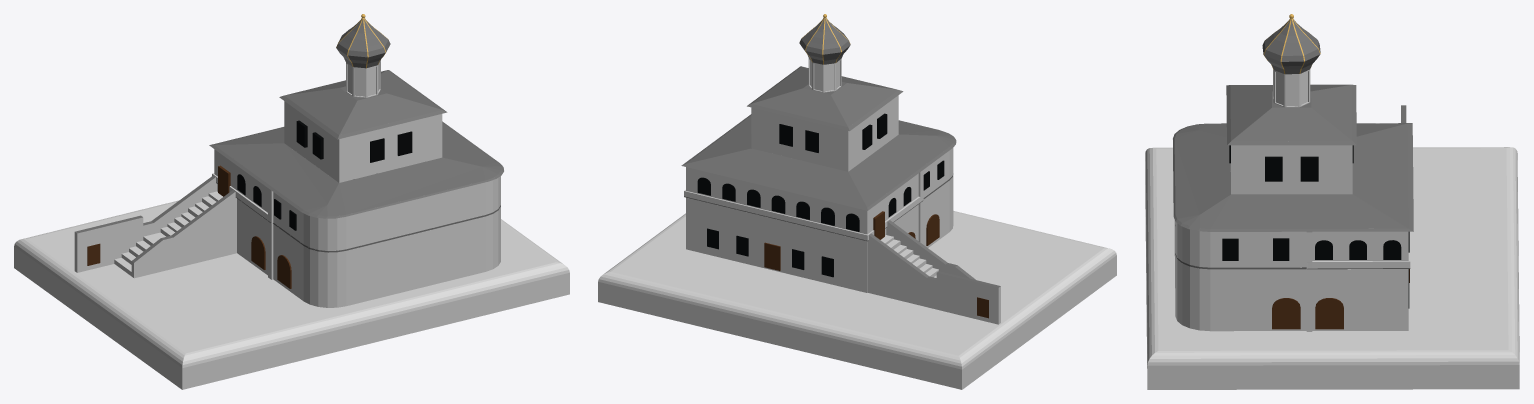
File: palacechurch.gltf
3 renders of one model, left to right at view 1: azimuth 30°, elevation 25°; view 2: azimuth 150°, elevation 25°; view 3: azimuth 270°, elevation 25°, orthographic. The views are drawn at different scales.
Parts seen in each view (by area): view 1: Base, Cube.009, Top, Cube.010, Cube.023, Cube.022; view 2: Base, Cube.009, Top, Cube.018, Cube.023, Cube.015, Cube.022, Cube.014; view 3: Base, Top, Cube.012, Cube.020, Cube.022, Cube.021.
Boxes of the visible parts, x1,y1,x2,y2 form: Base: [14, 70, 569, 389]; Cube.009: [74, 175, 236, 278]; Top: [336, 14, 390, 97]; Cube.010: [251, 236, 291, 288]; Cube.023: [370, 131, 412, 162]; Cube.022: [296, 120, 323, 159]; Base: [598, 66, 1116, 389]; Cube.009: [867, 220, 1000, 324]; Top: [799, 14, 850, 92]; Cube.018: [697, 177, 859, 231]; Cube.023: [779, 124, 818, 152]; Cube.015: [792, 249, 833, 277]; Cube.022: [862, 113, 887, 149]; Cube.014: [707, 228, 748, 256]; Base: [1145, 84, 1519, 389]; Top: [1262, 14, 1320, 107]; Cube.012: [1272, 298, 1343, 329]; Cube.020: [1315, 240, 1401, 259]; Cube.022: [1265, 156, 1318, 181]; Cube.021: [1222, 238, 1289, 260].
Bounding box in the file's own units: 57.35 × 37.61 × 42.78.
